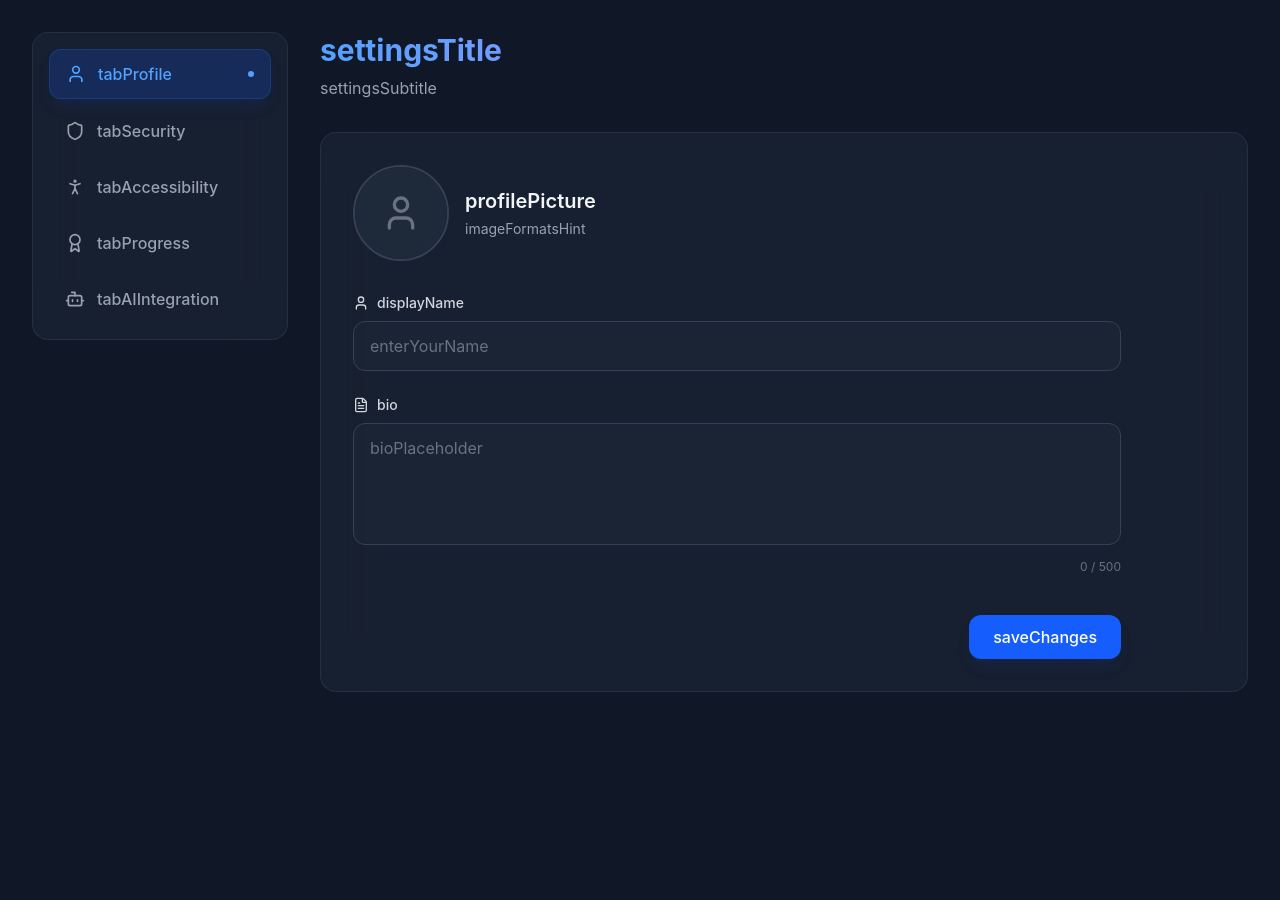
Test: SettingsLayout › clicking Progress tab shows the comingSoon placeholder
Click the button "tabProgress": (160, 243) [49,219,271,267]
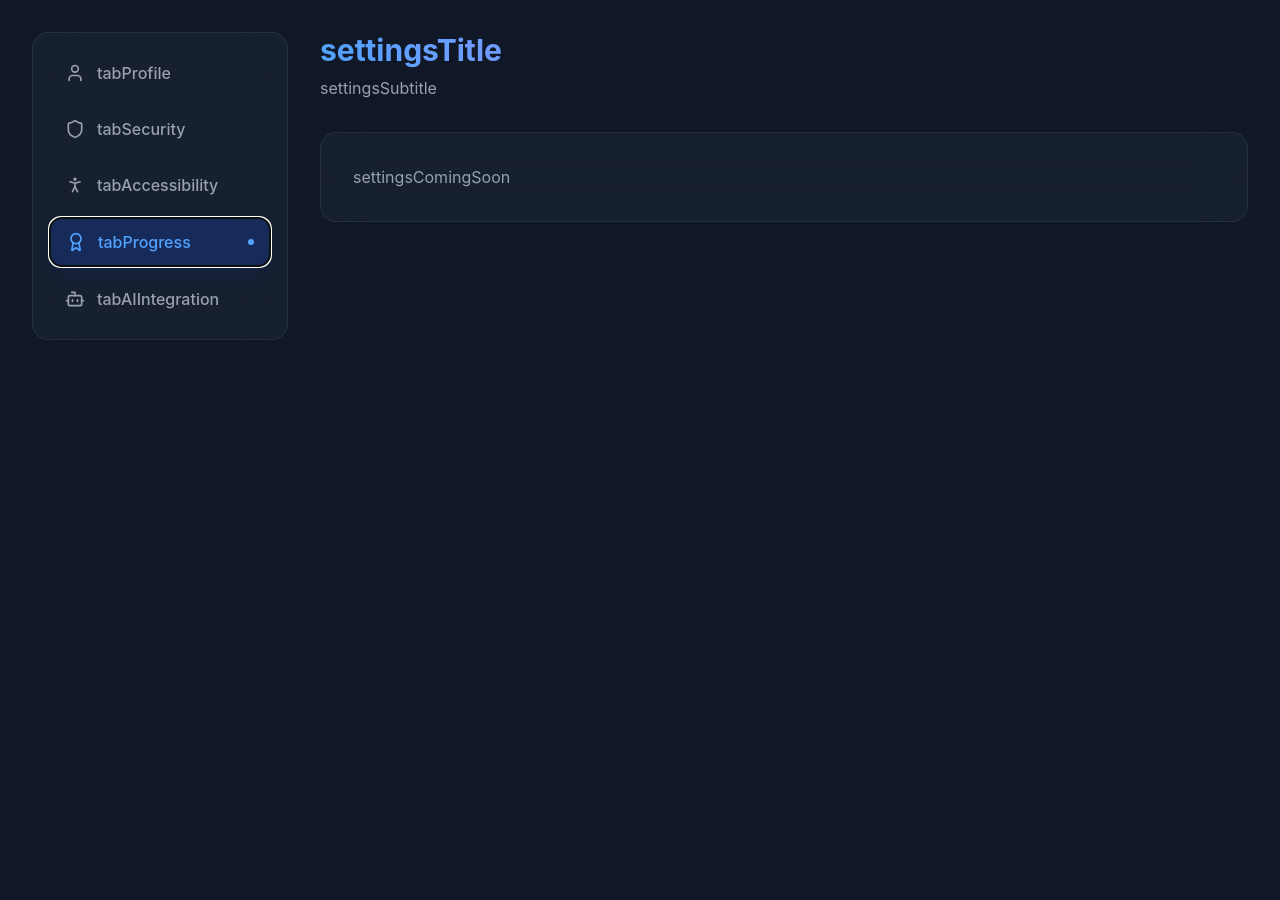
Expected: the text "settingsComingSoon" is shown, [353,167,510,187]
